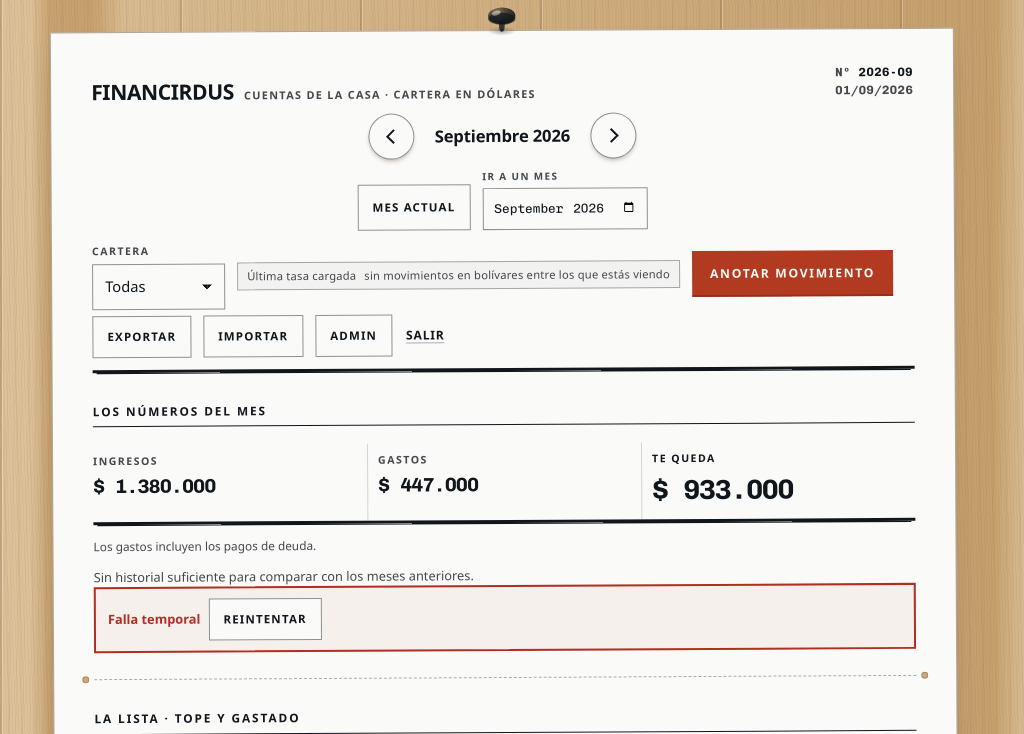
App › shows an error state with retry when an endpoint fails, then recovers
Expected: the text "Falla temporal" is shown, [108,610,200,630]
Step 1. Click the button "Reintentar" → (265, 620), box [208,598,322,641]
(page scrolled)
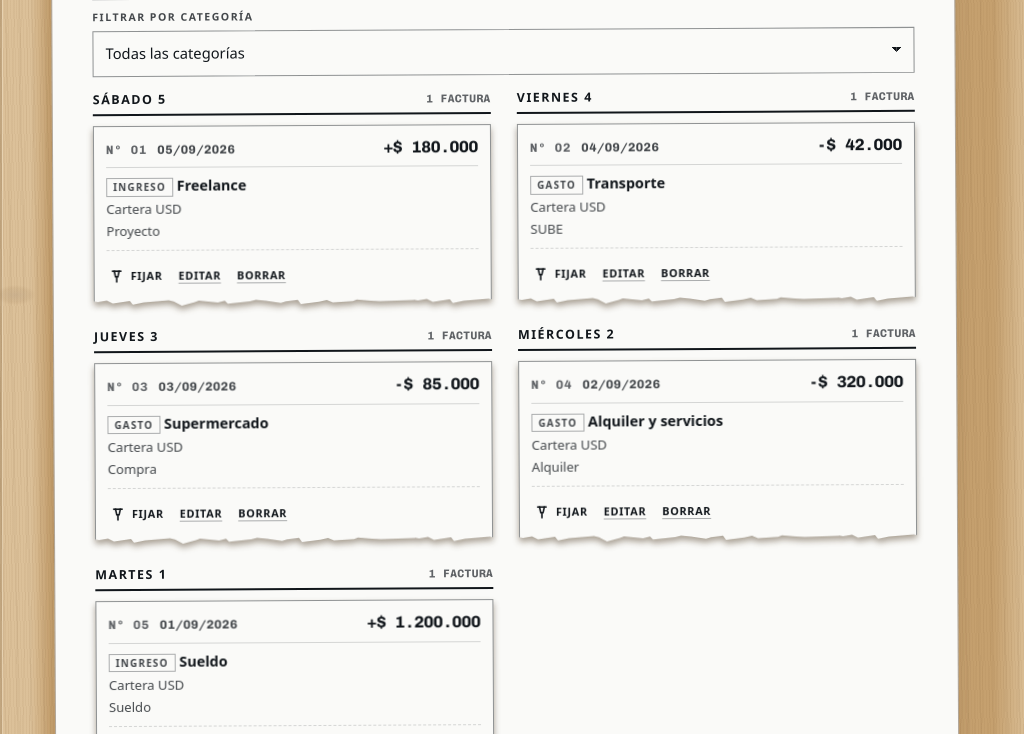
Result: the text "-$ 85.000" is shown at [394,373,479,397]
